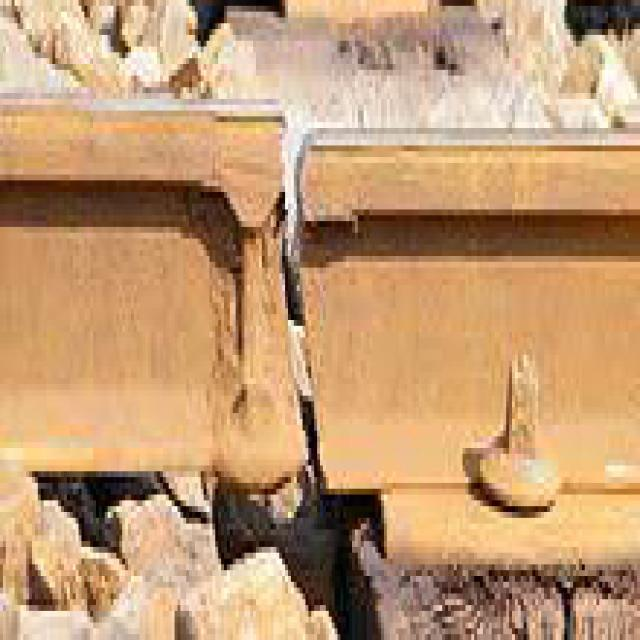broken_rail_high: (266, 103, 362, 497)
